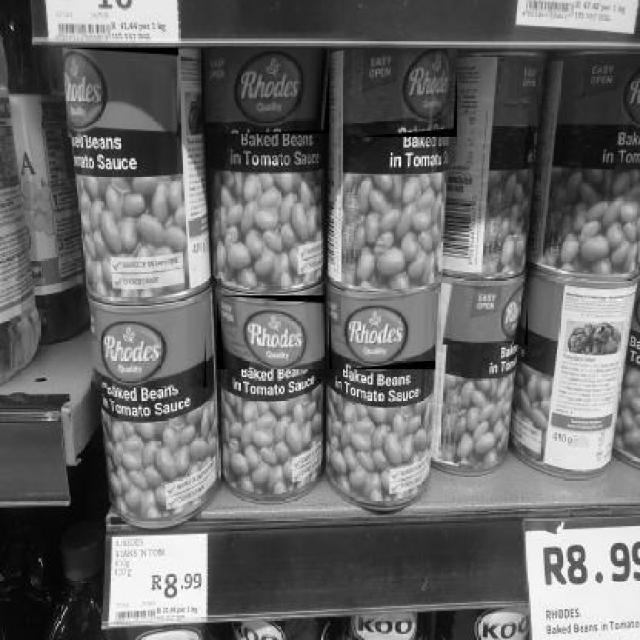Beans: (206, 50, 332, 136), (62, 48, 180, 139), (343, 50, 458, 139), (91, 306, 208, 389), (329, 291, 436, 371), (217, 295, 326, 370), (441, 280, 530, 346)
